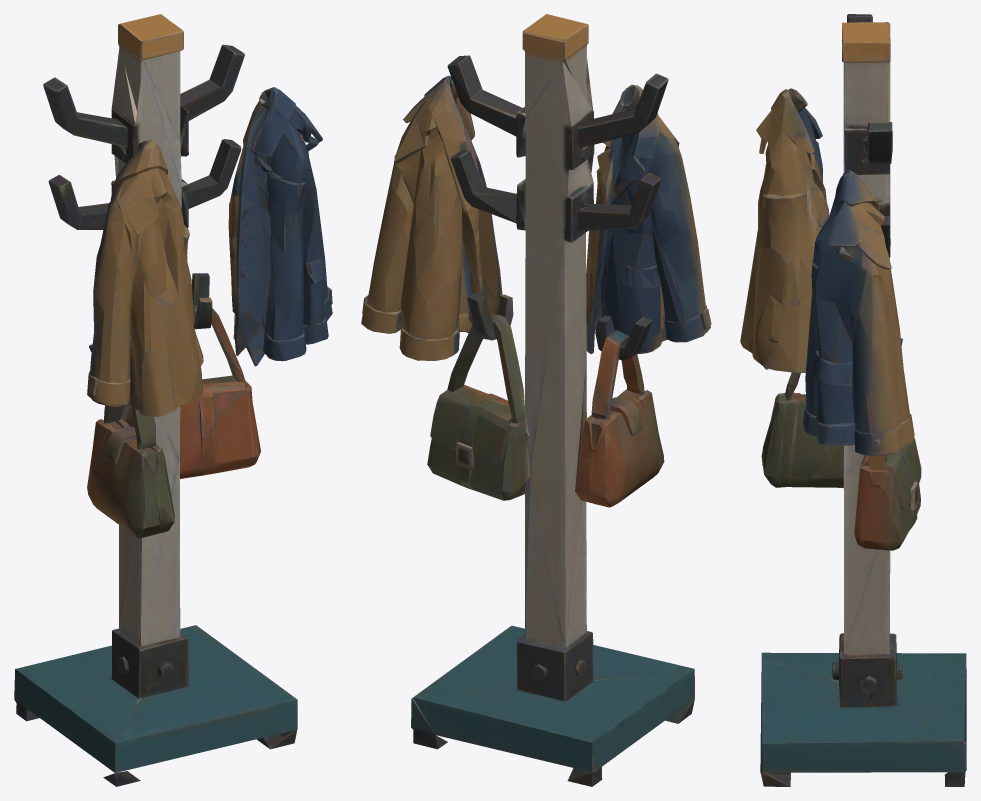
Rendered from coatStand.glb.
3 views of the same model, side by side, from view 1: azimuth 30°, elevation 25°; view 2: azimuth 150°, elevation 25°; view 3: azimuth 270°, elevation 25° (orthographic).
Visible parts, largest first — view 1: Mesh_0; view 2: Mesh_0; view 3: Mesh_0.
Part boxes in pixels (x1=…): Mesh_0: x1=14, y1=14, x2=332, y2=786; Mesh_0: x1=361, y1=14, x2=711, y2=786; Mesh_0: x1=740, y1=14, x2=966, y2=786.
Size of the model in its own units: 0.55 by 1.26 by 0.3652.
1 material, 1 textured.
